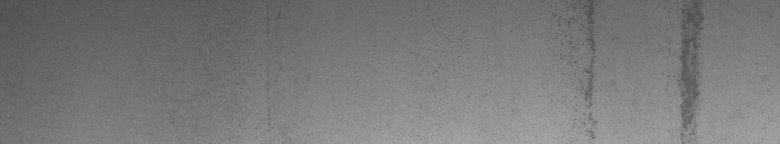hd: (675, 4, 708, 136)
